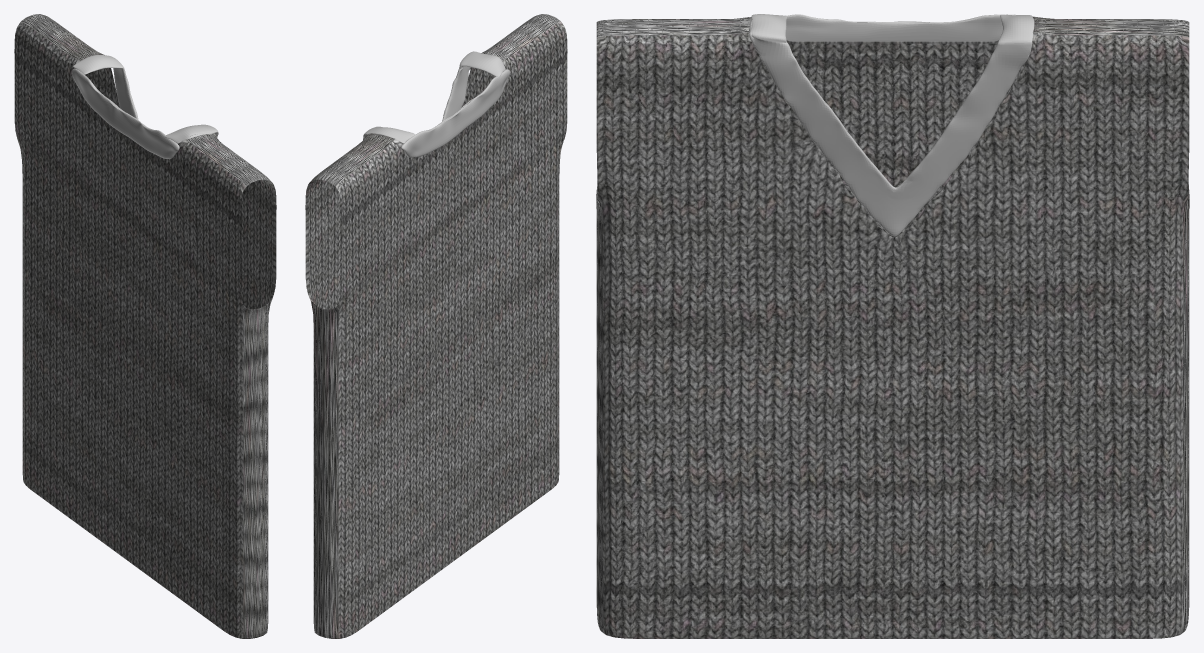
The model's file is v-neck-deep.fbx.
3 views of the same model, side by side, from view 1: azimuth 30°, elevation 25°; view 2: azimuth 150°, elevation 25°; view 3: azimuth 270°, elevation 25° (orthographic). The views are drawn at different scales.
Parts seen in each view (by area): view 1: Cube.001, Plane.002, Plane.001; view 2: Cube.001, Plane.002, Plane.001; view 3: Cube.001, Plane.001, Plane.002.
Boxes of the visible parts, x1,y1,x2,y2 form: Cube.001: [14, 14, 276, 638]; Plane.002: [72, 68, 179, 159]; Plane.001: [73, 55, 218, 143]; Cube.001: [305, 14, 567, 638]; Plane.002: [401, 69, 509, 157]; Plane.001: [363, 51, 505, 143]; Cube.001: [596, 16, 1189, 638]; Plane.001: [749, 14, 1034, 236]; Plane.002: [785, 14, 1015, 41].
Size of the model in its own units: 18.42 by 180 by 159.
